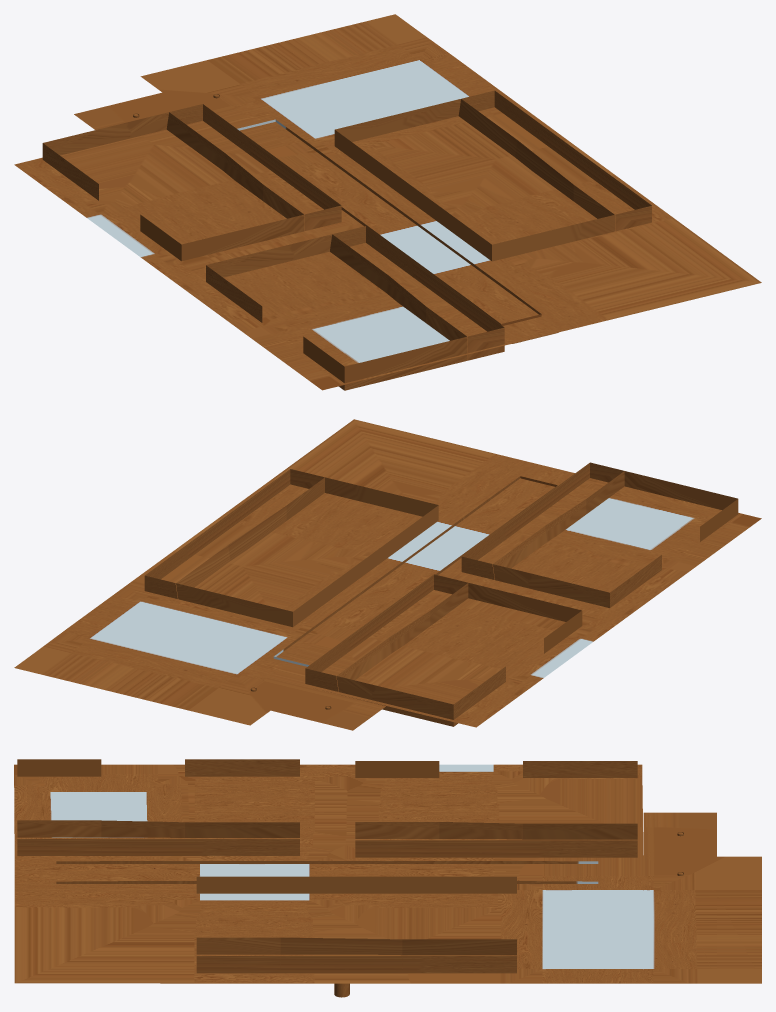
Rendered from plafond.fbx.
3 views of the same model, one above another, from view 1: azimuth 30°, elevation 25°; view 2: azimuth 150°, elevation 25°; view 3: azimuth 270°, elevation 25° (orthographic). The views are drawn at different scales.
Visible parts, largest first — view 1: toit, Cube.104, Cube.114, Cube.123, Cube.094; view 2: toit, Cube.104, Cube.123, Cube.114, Cube.094; view 3: toit, Cube.104, Cube.123, Cube.114, Cube.094.
Boxes of the visible parts, <box> form: toit: <box>14,14,761,390</box>; Cube.104: <box>334,90,651,261</box>; Cube.114: <box>206,226,504,390</box>; Cube.123: <box>42,104,341,261</box>; Cube.094: <box>237,119,558,343</box>; toit: <box>14,419,761,730</box>; Cube.104: <box>144,469,438,627</box>; Cube.123: <box>305,574,582,726</box>; Cube.114: <box>461,462,738,607</box>; Cube.094: <box>273,476,557,666</box>; toit: <box>14,764,761,983</box>; Cube.104: <box>196,876,516,973</box>; Cube.123: <box>355,761,637,857</box>; Cube.114: <box>17,759,299,855</box>; Cube.094: <box>56,861,598,883</box>.
Size of the model in its own units: 1656 by 386 by 2389.
